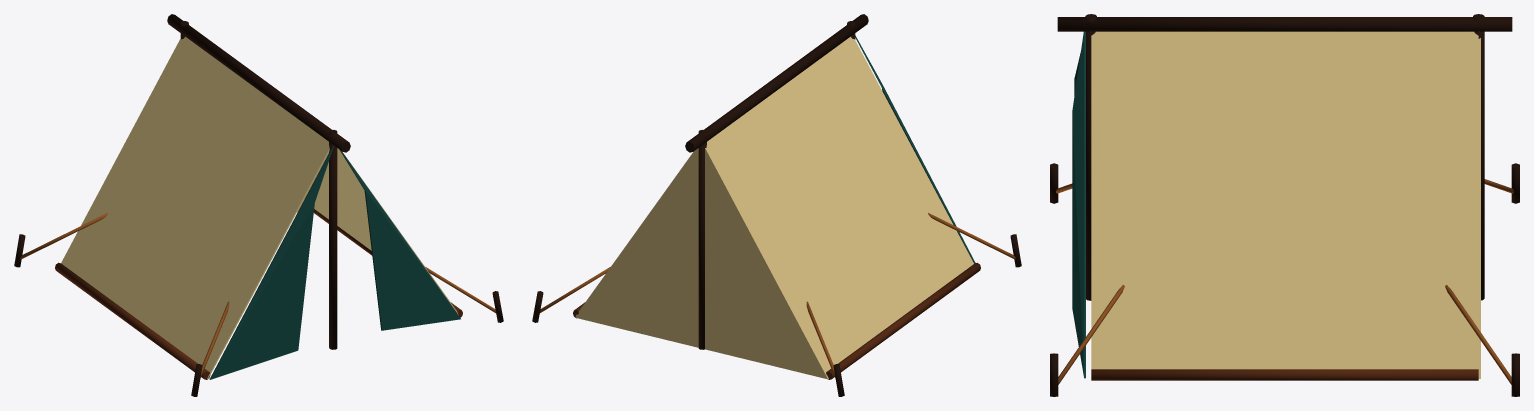
Rendered from tent.obj.
3 renders of one model, left to right at view 1: azimuth 30°, elevation 25°; view 2: azimuth 150°, elevation 25°; view 3: azimuth 270°, elevation 25°, orthographic. The views are drawn at different scales.
Parts seen in each view (by area): view 1: tent; view 2: tent; view 3: tent.
Boxes of the visible parts, box(x1,y1,x2,y2) form: tent: box(14, 14, 503, 396); tent: box(532, 14, 1021, 396); tent: box(1050, 14, 1519, 396).
Bounding box in the file's own units: 3 × 2 × 3.
